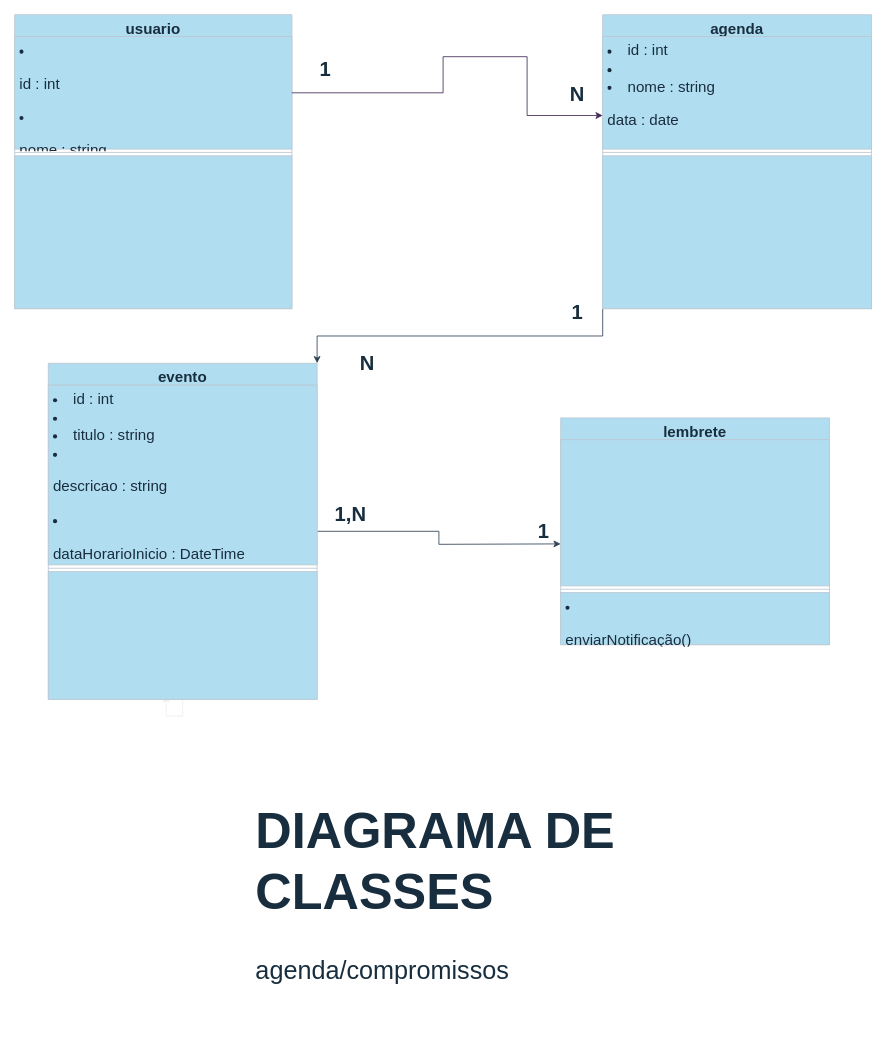
Image size: 886x1040. Some labels were removed from this diagram. Here are the shapes that lost their labels. From the top down, the centre of each, then its label:
At point 153,232: "fazerLogin() criarEvento() listaEvento() receberNotificação()".
At point 737,232: "adicionarEvento() removerEvento() listaEvento()".
At point 695,512: "id :int Data : date horario : DateTime mensagem : string".
At point 182,635: "marcarComoConcluido() : void reagendar(adicionarEvento) : void".
